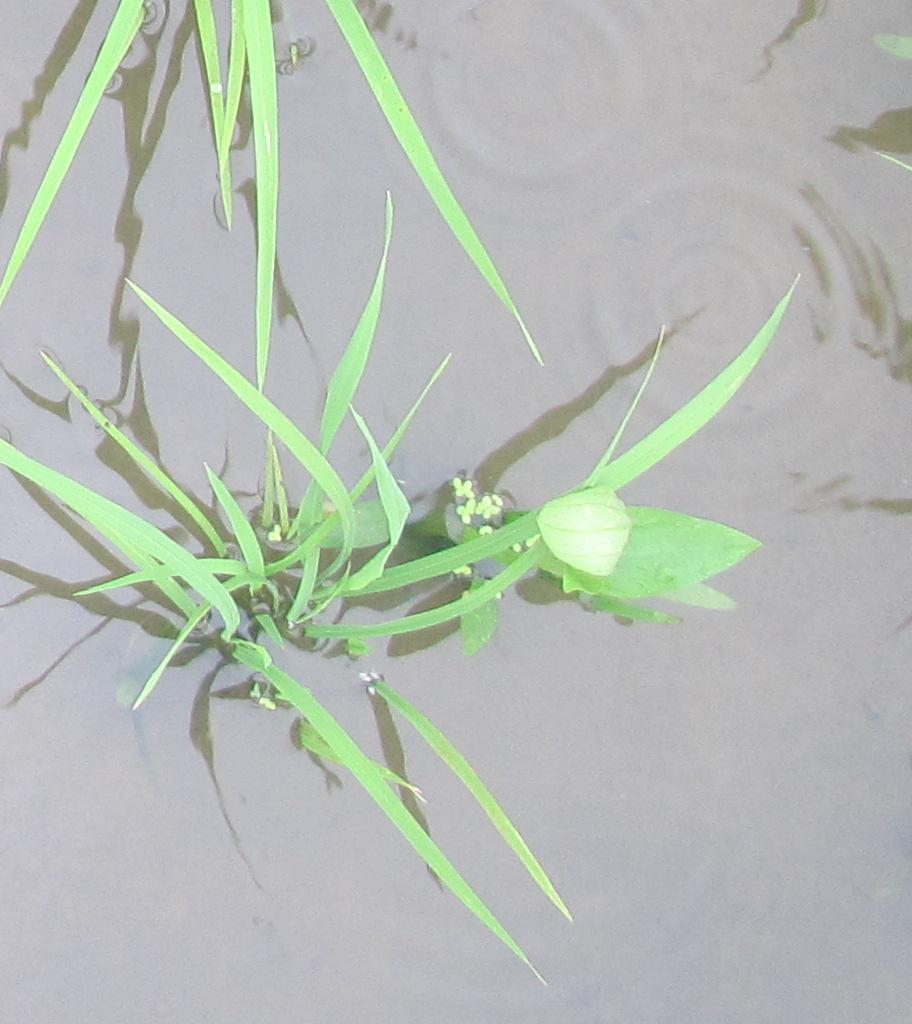Weed: (535, 485, 763, 621)
